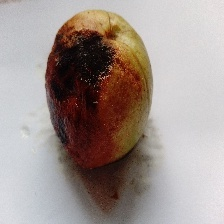guava: (29, 25, 197, 210)
